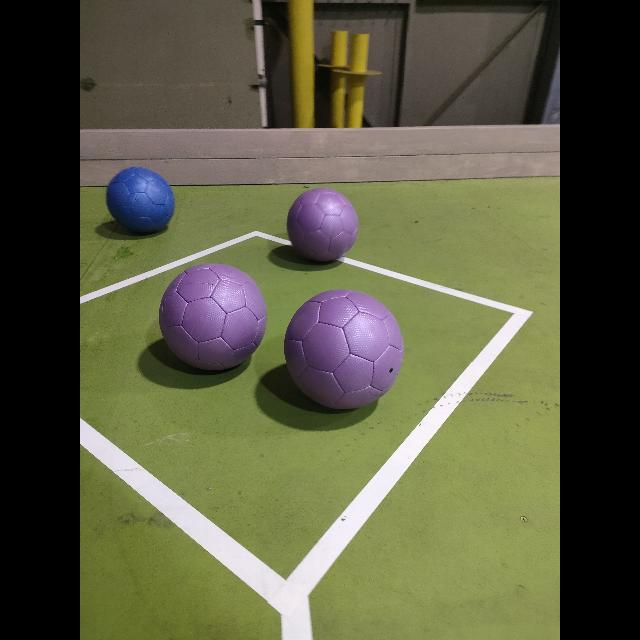B: (107, 166, 175, 232)
P: (284, 290, 404, 408), (160, 264, 266, 370), (286, 188, 358, 260)
